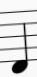note: (9, 5, 30, 75)
